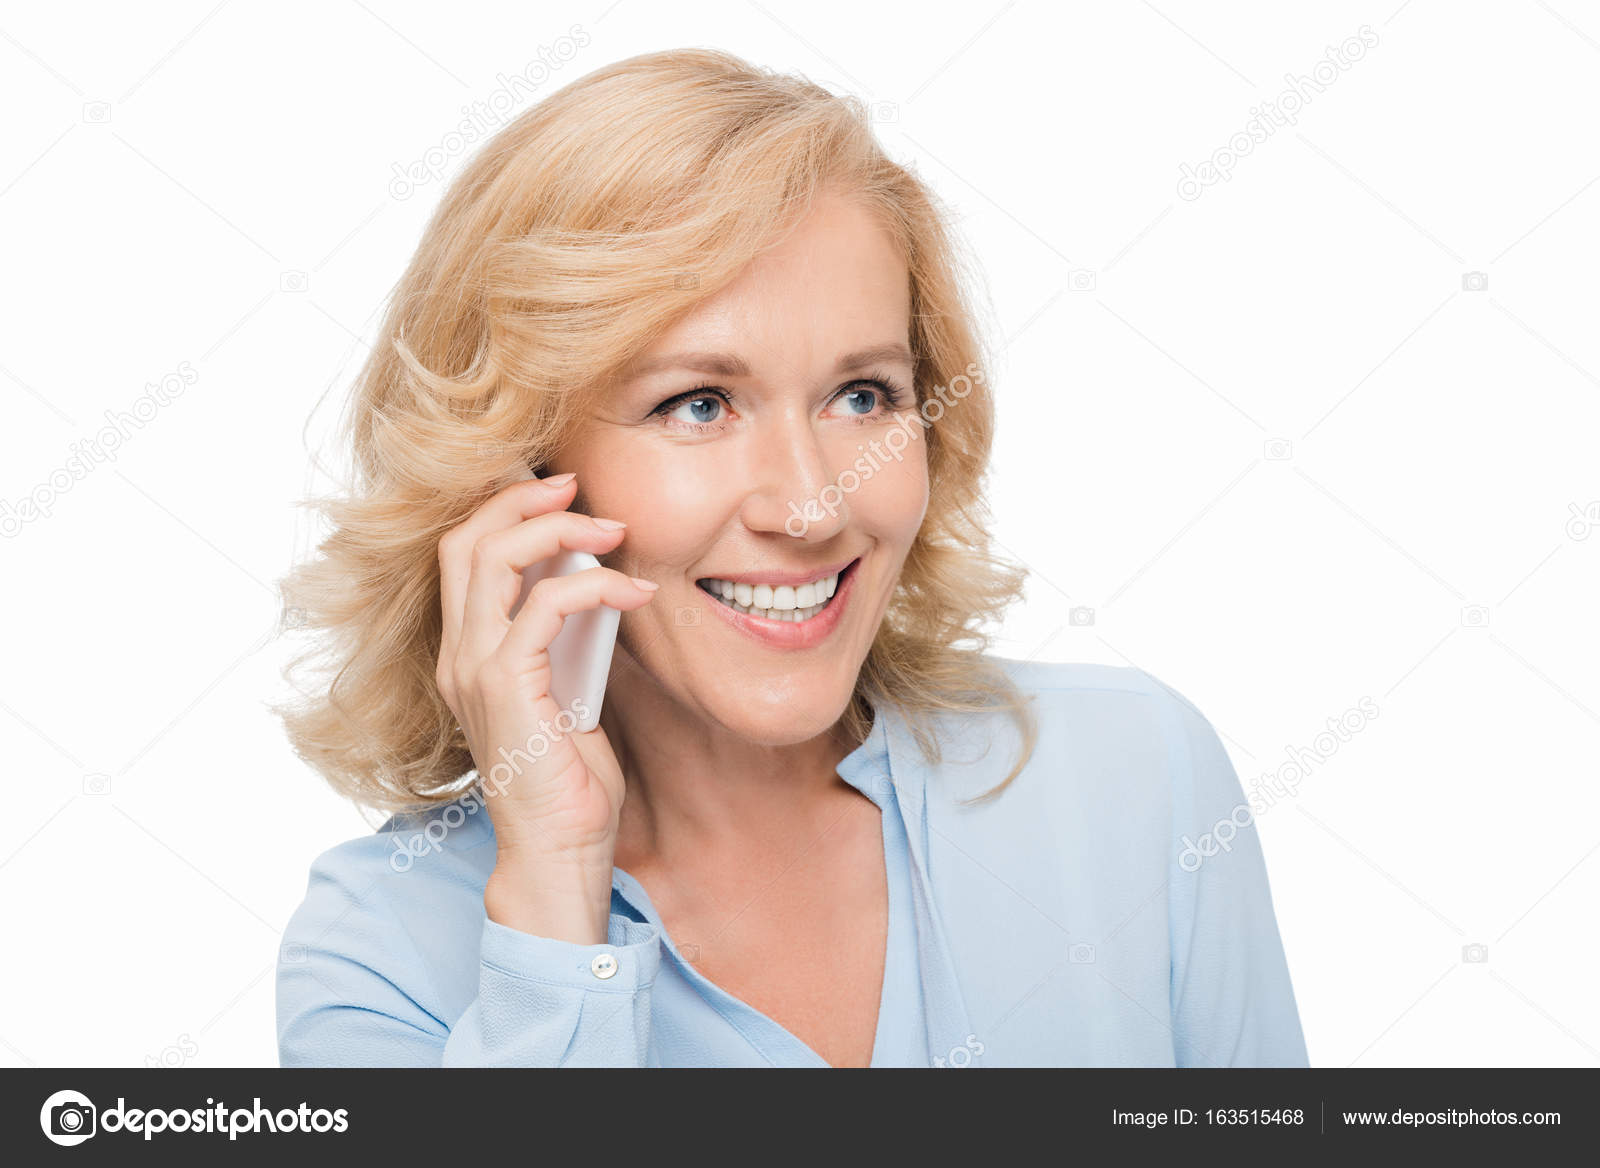phone: (434, 463, 663, 742)
talk: (398, 326, 940, 875)
